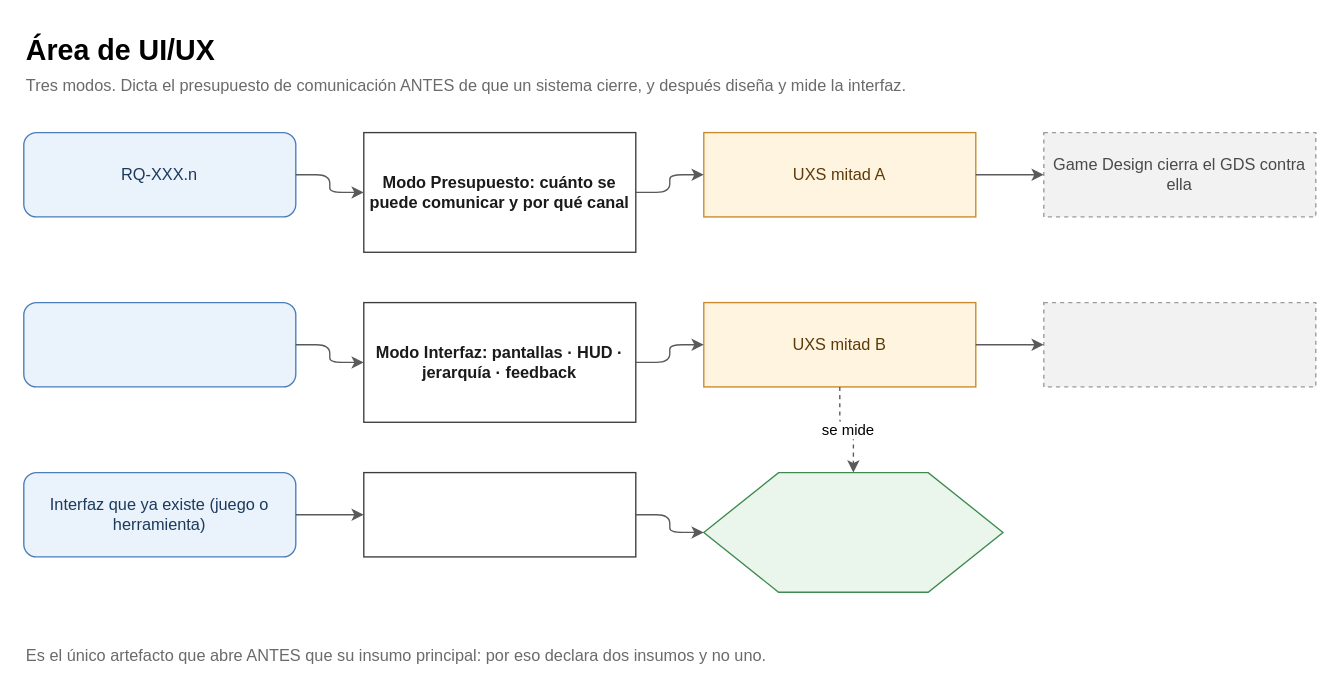
The diagram is 1340 pixels wide and 692 high, and some of its shapes have lost their labels. Each missing label, with the centre of its shape:
GDS-XXX.n cerrado: (x=159, y=344)
legibilidad.py — contraste WCAG · daltonismo · mapping · densidad: (x=852, y=531)
Modo Pasada: medir lo que ya está: (x=499, y=514)
Programación → SOL: (x=1179, y=344)
